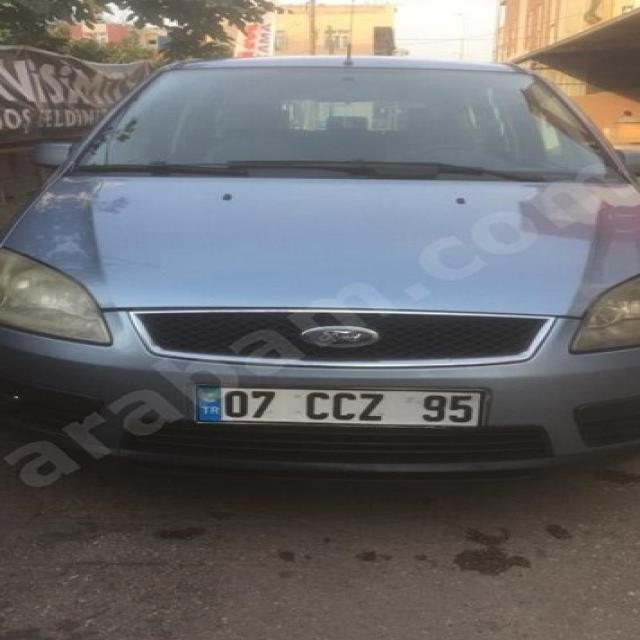license_plate: (191, 385, 484, 427)
